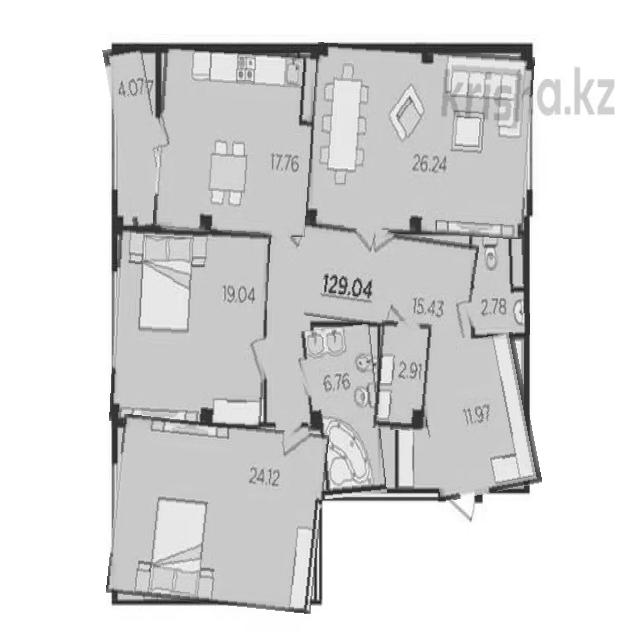balcony: (110, 45, 165, 231)
bathroom: (303, 326, 383, 498), (470, 233, 530, 336)
hallway: (262, 224, 477, 332), (419, 336, 536, 498)
kitchen: (155, 47, 314, 234)
living_room: (308, 45, 532, 236), (111, 419, 325, 609), (111, 228, 269, 428)
other: (375, 320, 432, 431)
